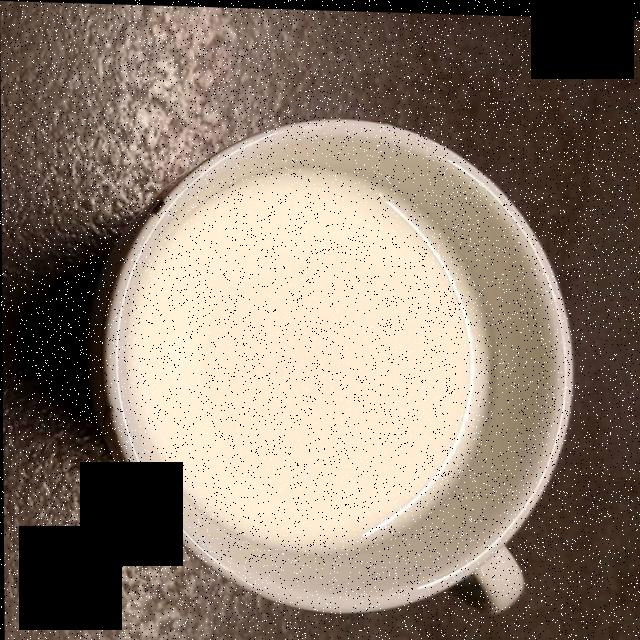milk: (133, 172, 482, 542)
